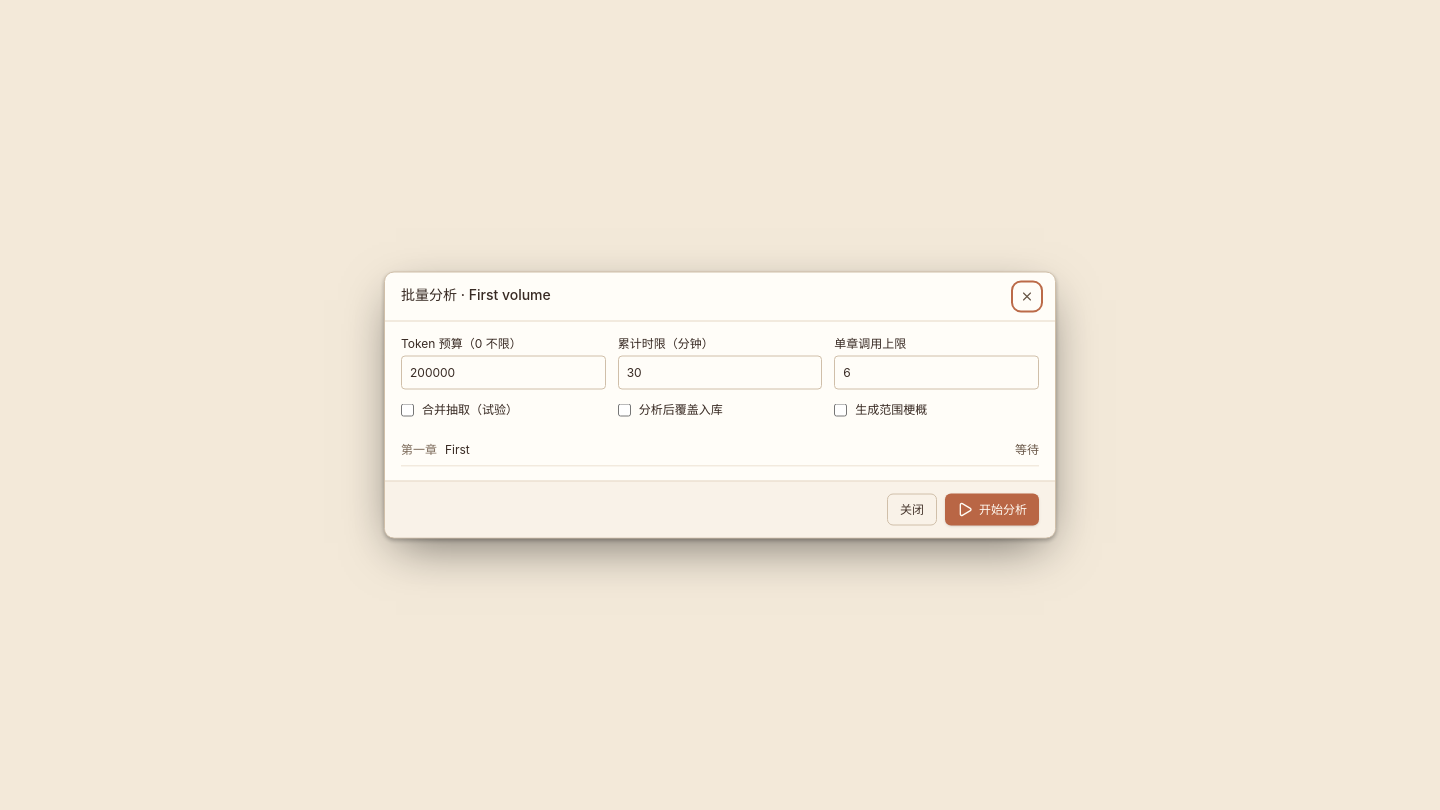
it: durable chapter analysis › keeps a failed start retryable and rejects invalid budgets
Replace the text in the number field labelled "累计时限" with "-1": x=720, y=372 [618,356,822,390]
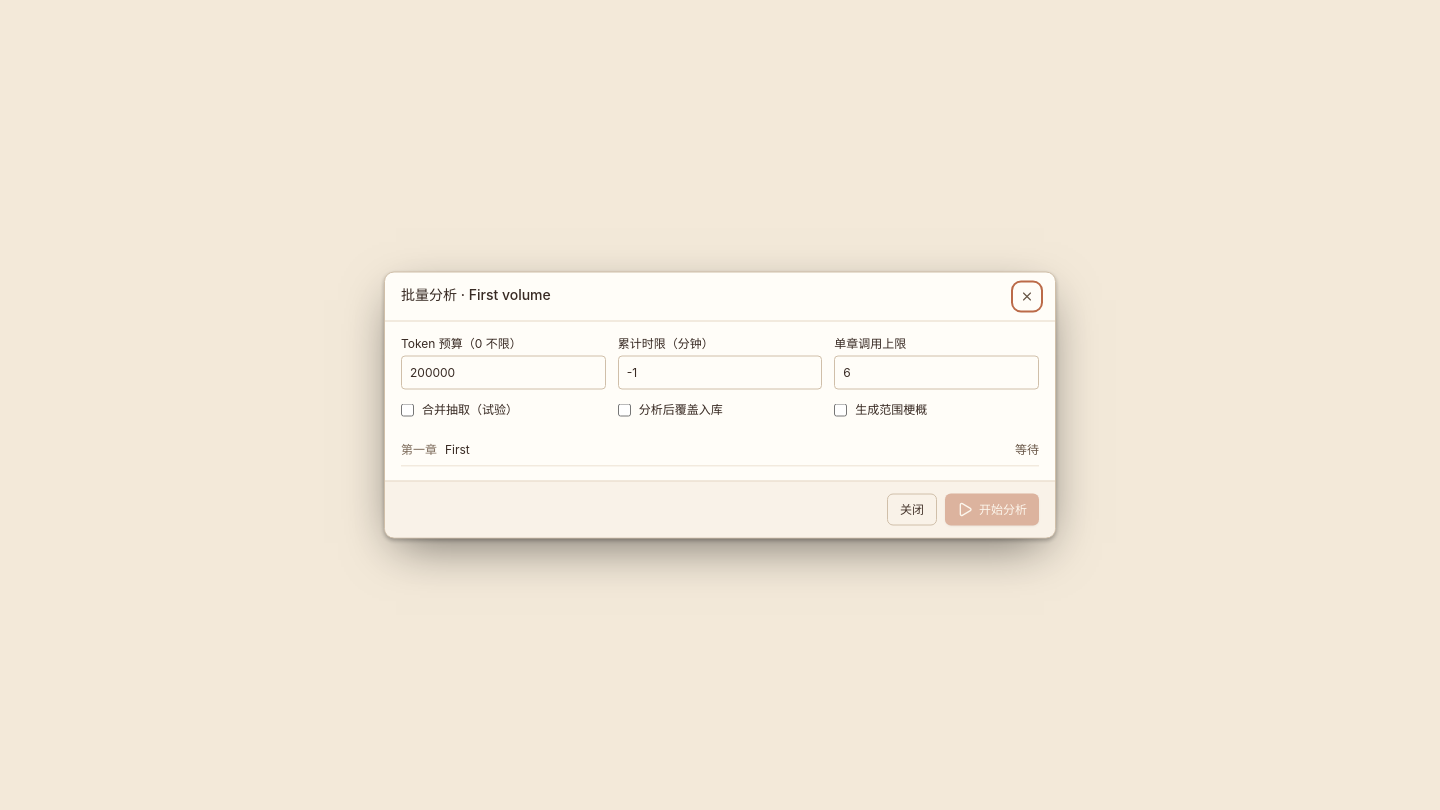
Expected: the button "开始分析" is disabled, [945,494,1039,526]
Replace the text in the number field labelled "累计时限" with "30": x=720, y=372 [618,356,822,390]
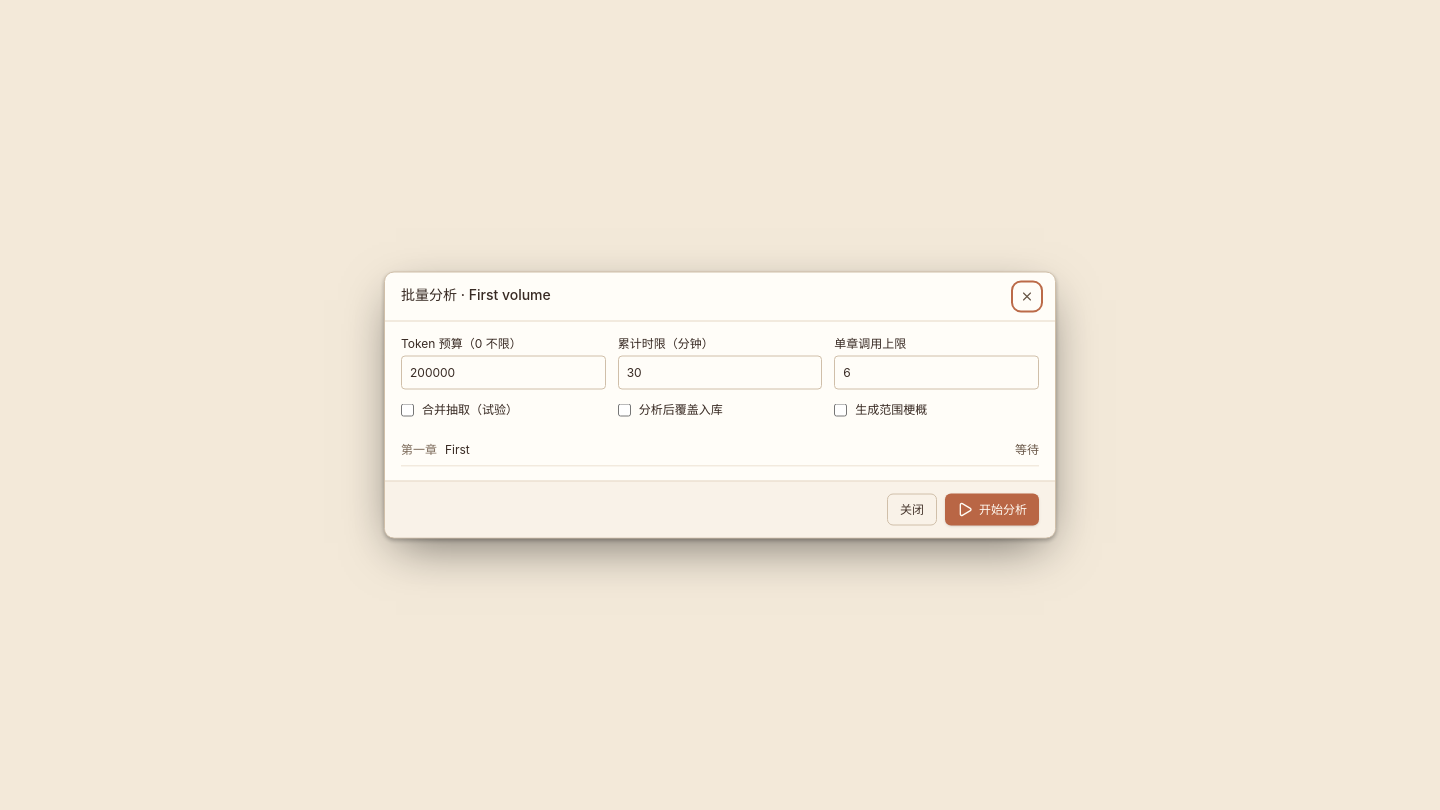
Click the button "开始分析": x=992, y=510 [945,494,1039,526]
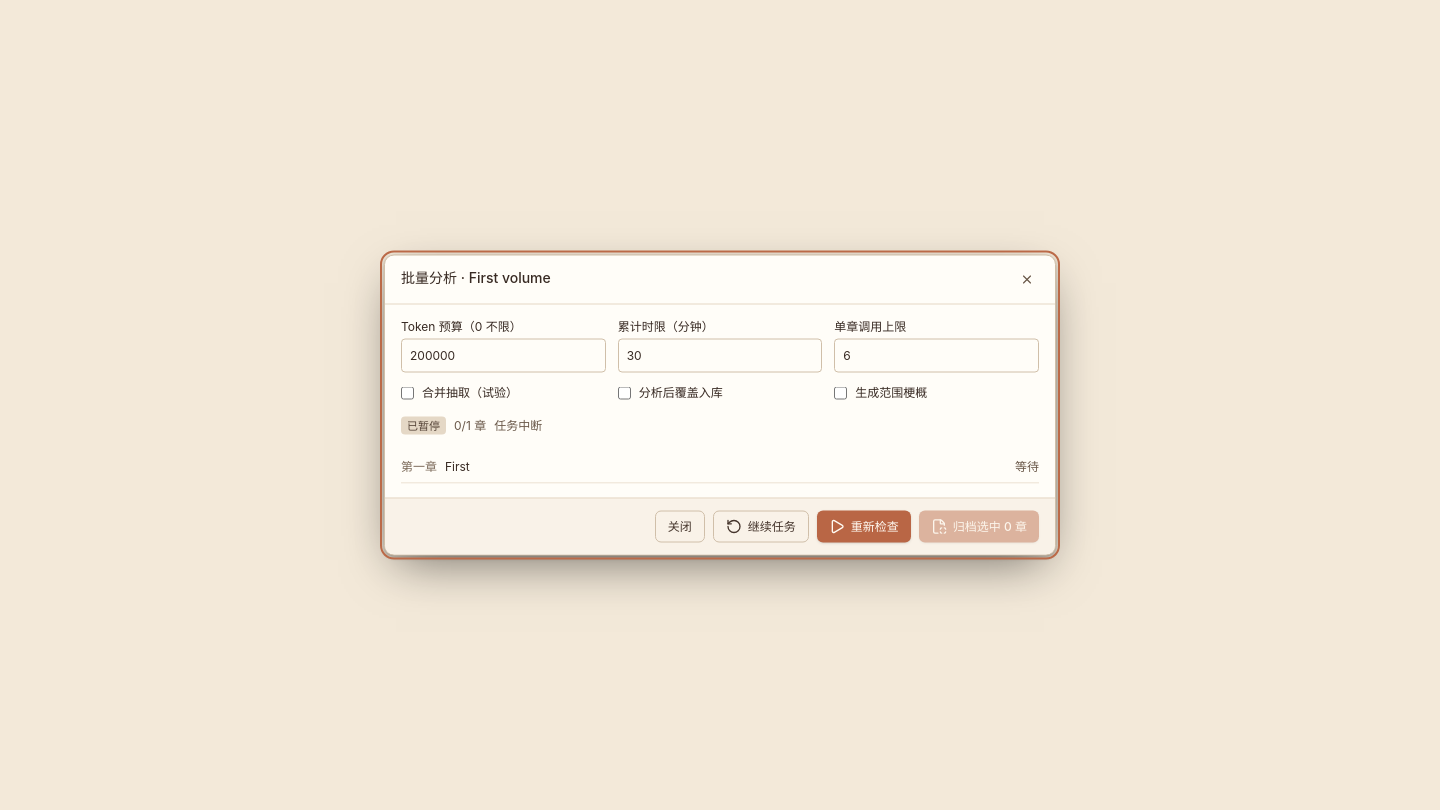
Expected: the button "重新检查" is enabled, [817,510,911,542]
